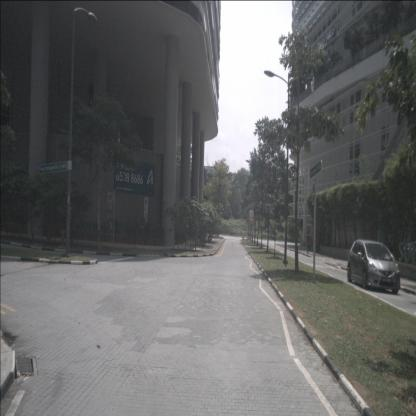human-pedestrian-adult: (304, 230, 311, 255), (317, 232, 321, 253)
vehicle-car: (347, 238, 400, 294)
